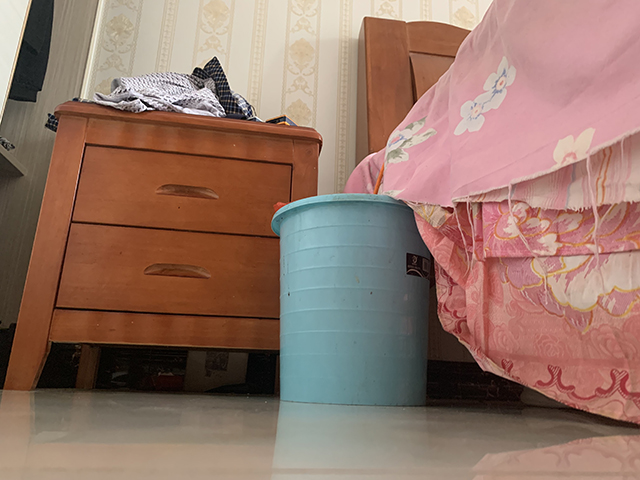bed: (343, 1, 640, 426)
cabinet: (2, 99, 324, 391)
trashcan: (269, 192, 432, 407)
